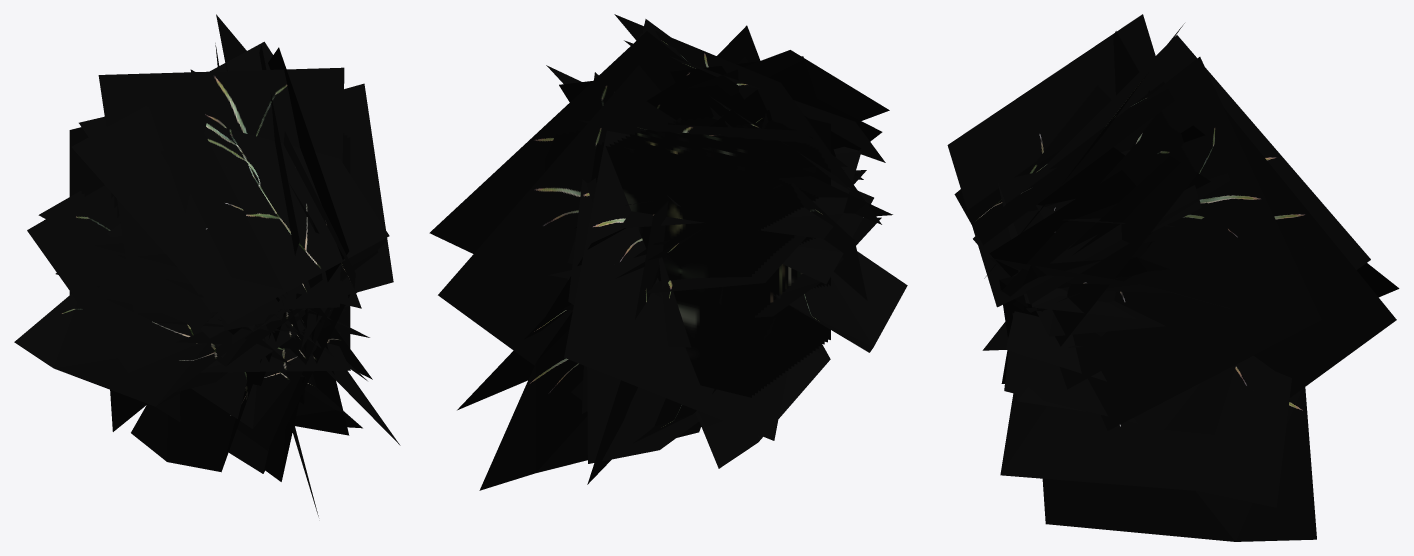
The model's file is GrassDry.fbx.
The picture shows the model from 3 angles, left to right: view 1: azimuth 30°, elevation 25°; view 2: azimuth 150°, elevation 25°; view 3: azimuth 270°, elevation 25°; orthographic projection. The views are drawn at different scales.
Visible parts, largest first — view 1: GrassLDM1, Grass, GrassLDM2; view 2: GrassLDM1, Grass, GrassLDM2; view 3: GrassLDM1, Grass.
Part boxes in pixels (box(x1,y1,x2,y2)): GrassLDM1: box(27, 14, 393, 431); Grass: box(14, 183, 400, 516); GrassLDM2: box(69, 127, 350, 392); GrassLDM1: box(429, 14, 892, 440); Grass: box(457, 146, 907, 490); GrassLDM2: box(545, 115, 830, 397); GrassLDM1: box(947, 14, 1399, 430); Grass: box(982, 149, 1316, 541).
Bounding box in the file's own units: 523 × 660 × 581.
